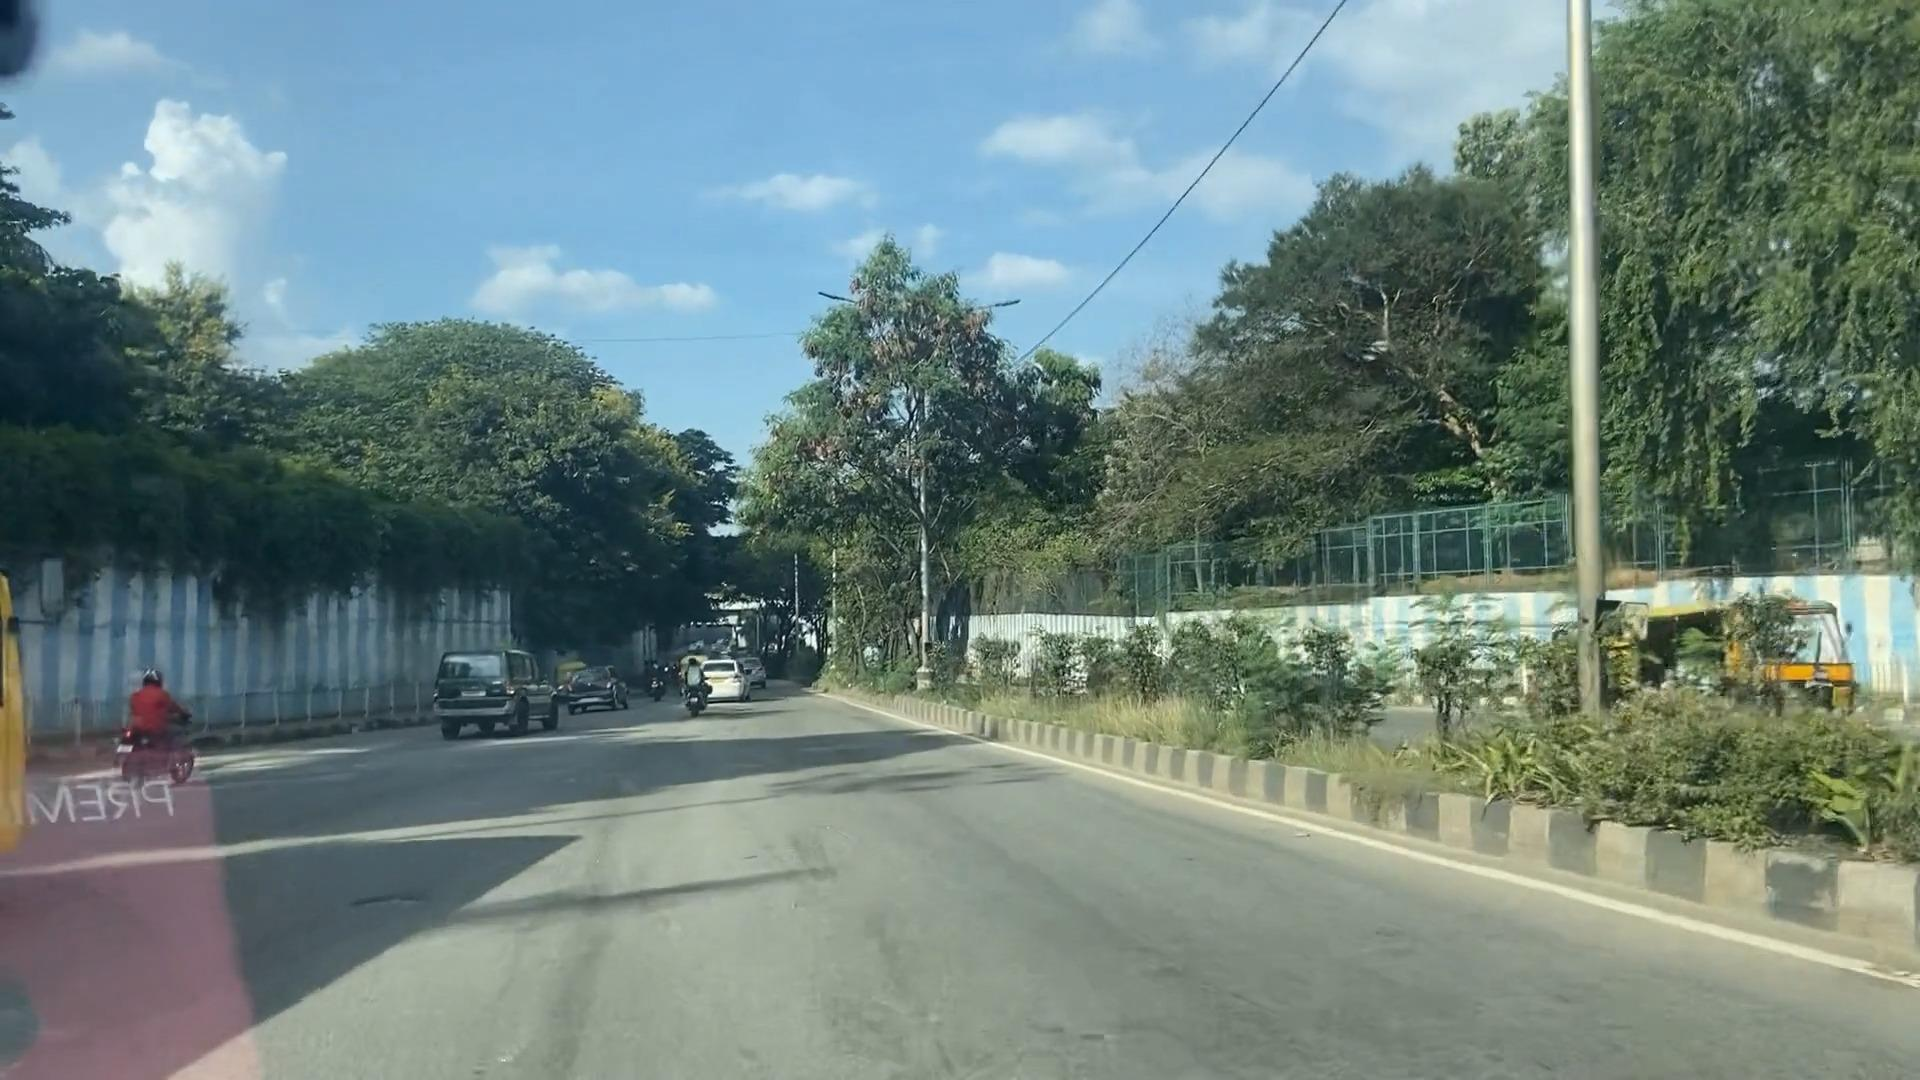LMV: (425, 647, 558, 742), (121, 645, 202, 790)
RoadDamages: (311, 885, 448, 963)
